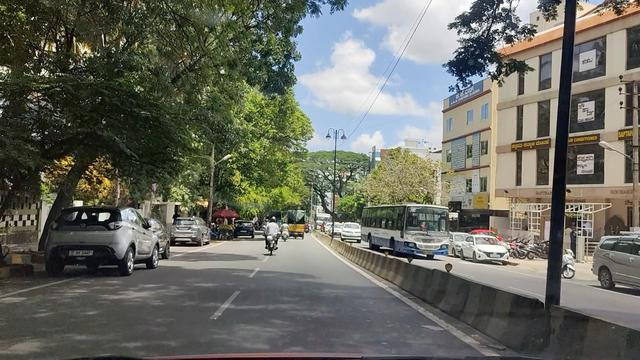LMV: (47, 203, 161, 265), (266, 210, 278, 257)
